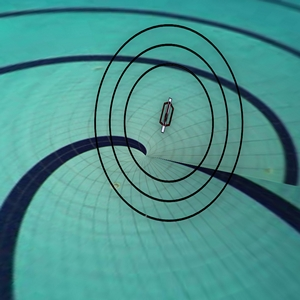circle: (87, 15, 267, 243)
submarine: (150, 95, 189, 143)
